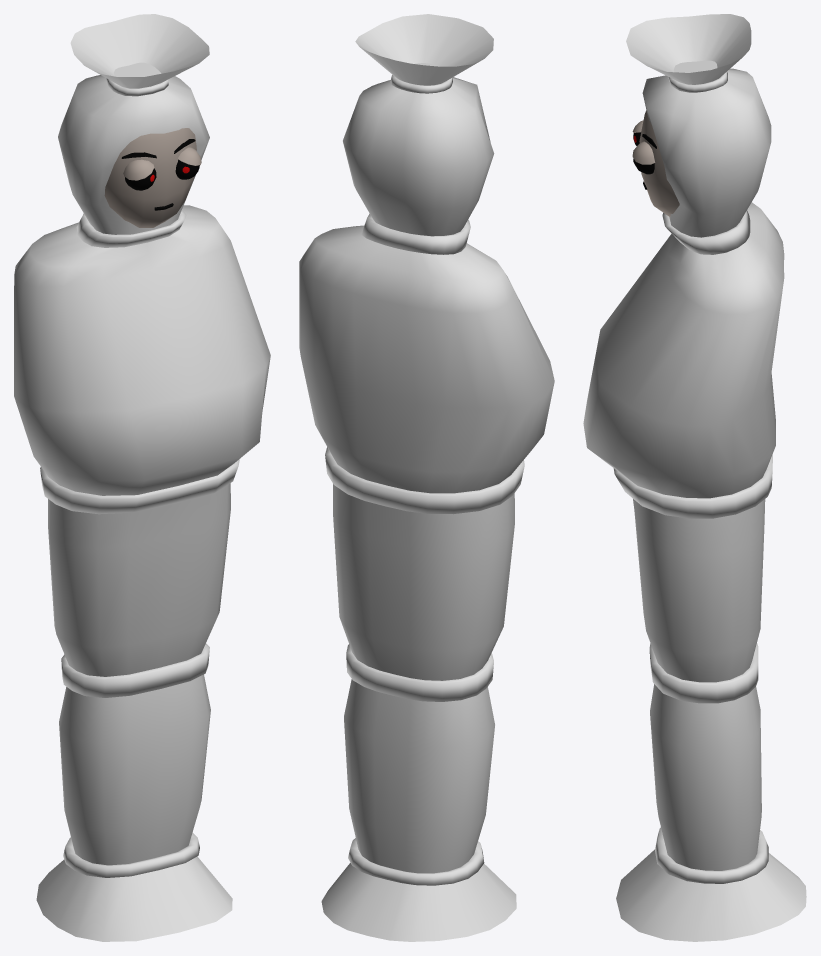
The model's file is Pocong.fbx.
3 views of the same model, side by side, from view 1: azimuth 30°, elevation 25°; view 2: azimuth 150°, elevation 25°; view 3: azimuth 270°, elevation 25° (orthographic).
Parts seen in each view (by area): view 1: Pocong, Muka, Mata; view 2: Pocong; view 3: Pocong, Muka, Mata.
Boxes of the visible parts, x1=… form: Pocong: x1=14, y1=14, x2=270, y2=941; Muka: x1=104, y1=128, x2=196, y2=227; Mata: x1=123, y1=147, x2=201, y2=190; Pocong: x1=299, y1=14, x2=554, y2=941; Pocong: x1=583, y1=14, x2=806, y2=941; Muka: x1=639, y1=110, x2=679, y2=216; Mata: x1=632, y1=120, x2=655, y2=174.
Size of the model in its own units: 66.31 by 231 by 53.93.
